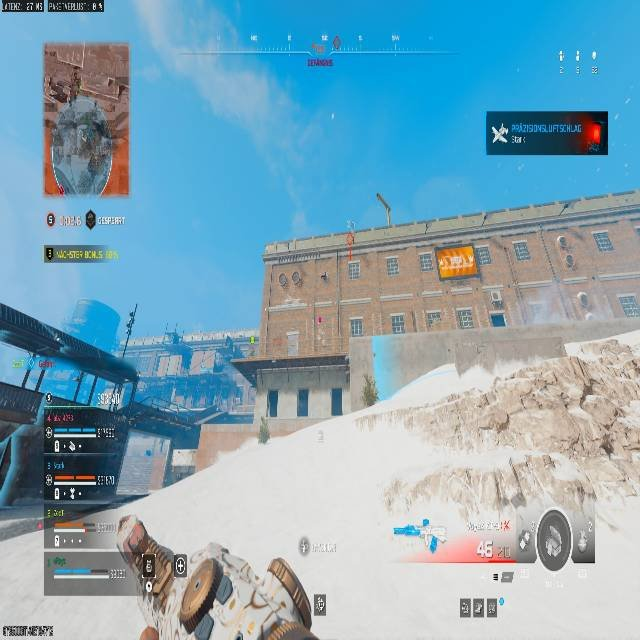head: (116, 515, 154, 572)
player: (110, 511, 323, 639)
